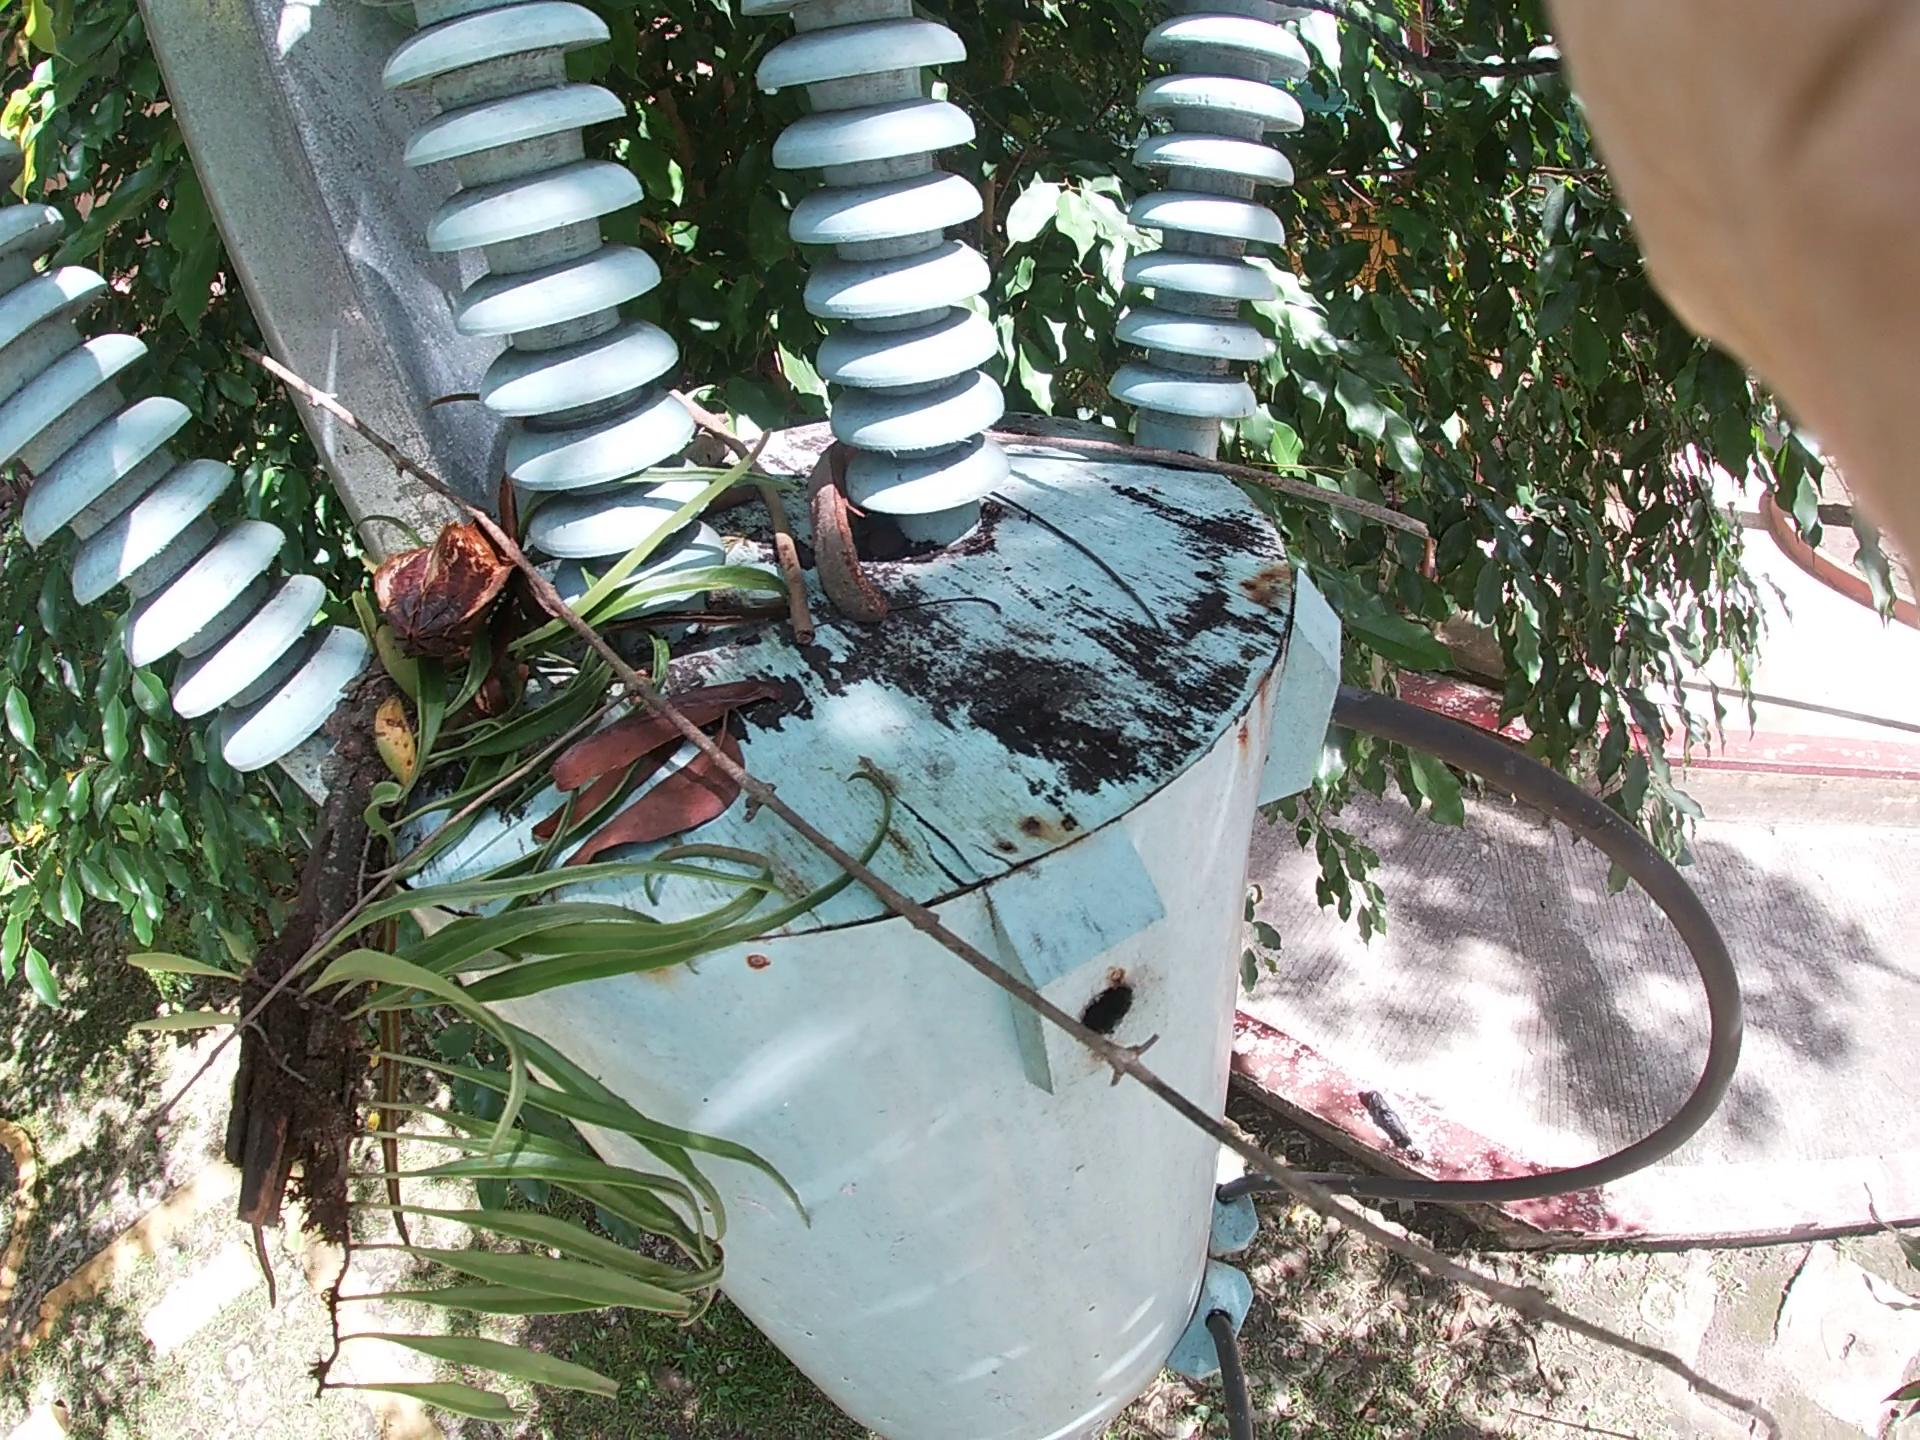branch with leaves: (237, 262, 717, 1313)
leaf: (534, 664, 797, 902)
mahogany fruit: (788, 369, 963, 725), (370, 475, 485, 682)
tree branch: (319, 405, 1332, 1166), (721, 315, 910, 706), (1008, 433, 1590, 555)
